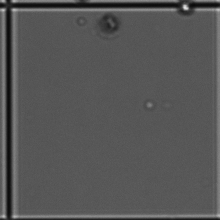Dead Cell: (99, 12, 127, 39)
Living Cell: (178, 1, 192, 18)
